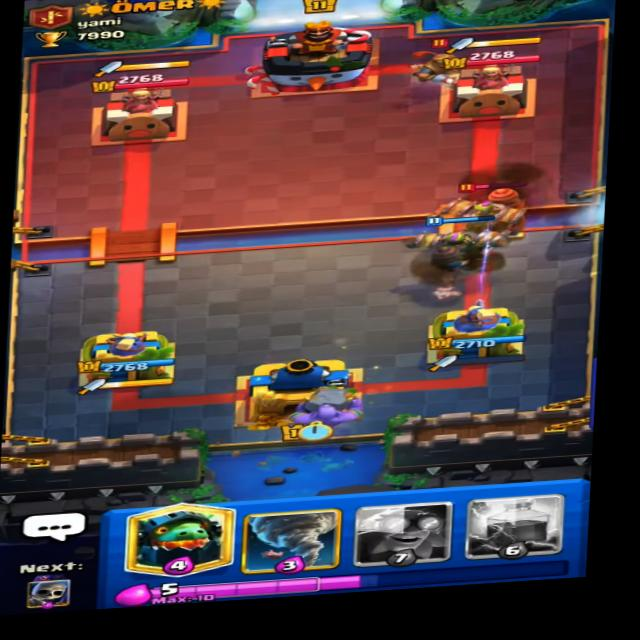goblin-machine: (443, 166, 547, 245)
prince: (410, 32, 480, 98)
